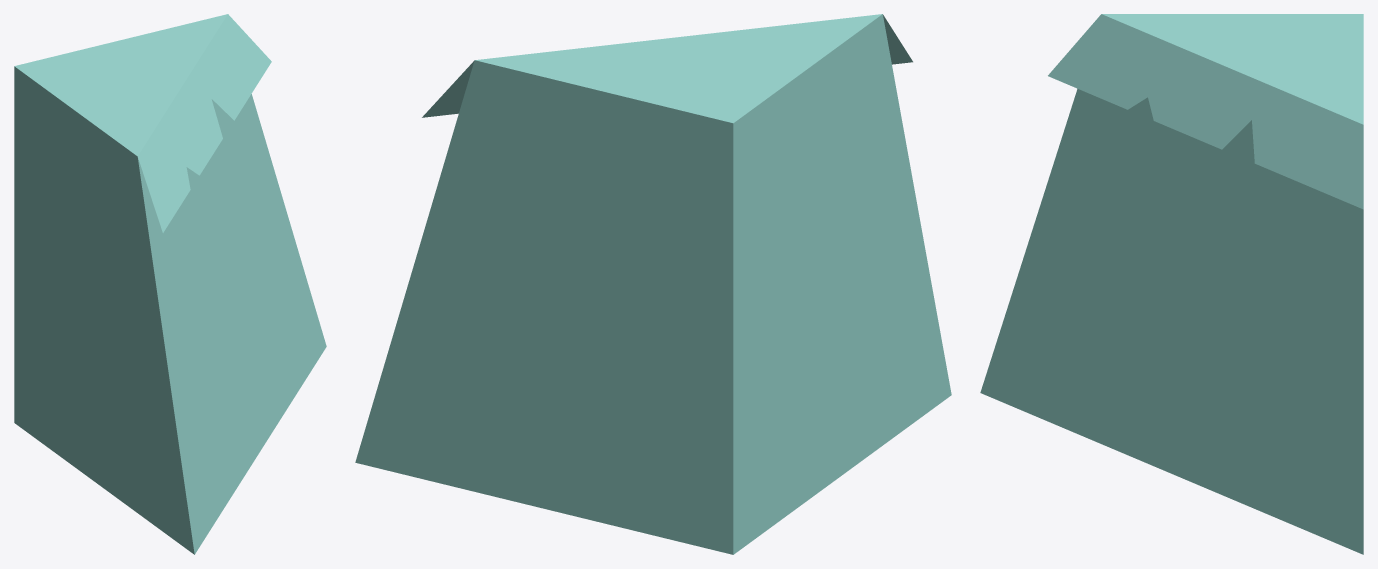
The model's file is cliffGrey_halfCorner.fbx.
3 views of the same model, side by side, from view 1: azimuth 30°, elevation 25°; view 2: azimuth 150°, elevation 25°; view 3: azimuth 270°, elevation 25° (orthographic). The views are drawn at different scales.
Visible parts, largest first — view 1: cliffGrey_halfCorner; view 2: cliffGrey_halfCorner; view 3: cliffGrey_halfCorner.
Boxes of the visible parts, x1,y1,x2,y2 form: cliffGrey_halfCorner: (14, 14, 326, 554); cliffGrey_halfCorner: (355, 14, 951, 554); cliffGrey_halfCorner: (980, 14, 1363, 554).
Bounding box in the file's own units: 138 × 150 × 138.
